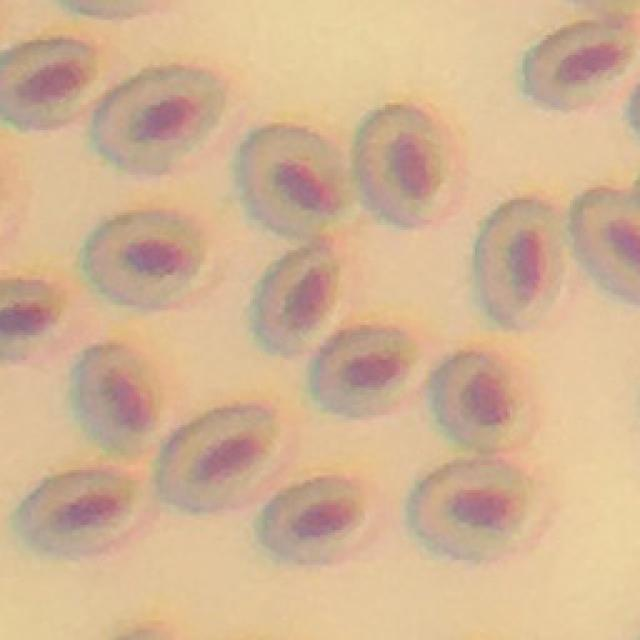RBC: (92, 69, 224, 178), (408, 461, 544, 564), (158, 405, 284, 514), (355, 107, 462, 229), (238, 127, 354, 239), (81, 212, 210, 311), (12, 471, 150, 560), (476, 201, 562, 330), (250, 244, 346, 359), (522, 21, 638, 111), (429, 354, 532, 451), (311, 329, 419, 419), (71, 347, 158, 458), (259, 479, 366, 566), (0, 41, 94, 131), (571, 191, 640, 305), (0, 281, 61, 364)
